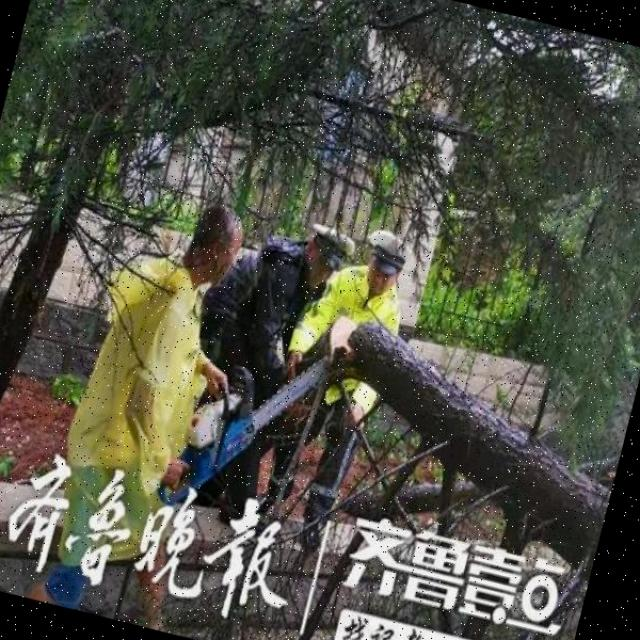fallen_object: (307, 311, 638, 574)
